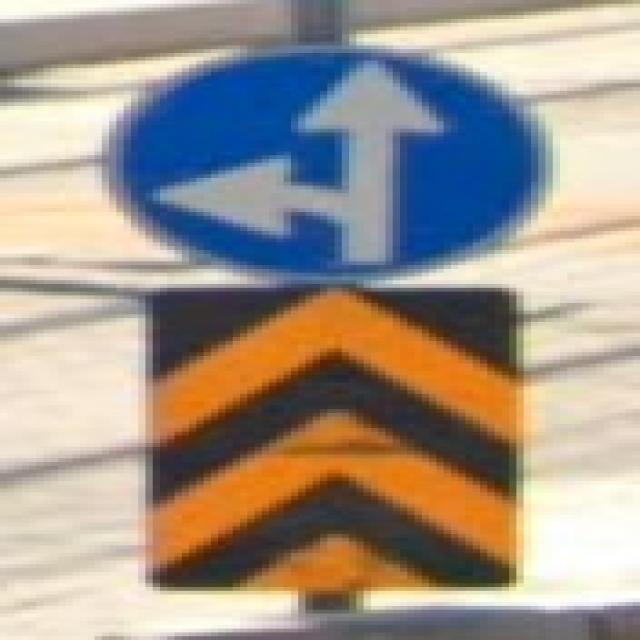Straight or Left: (110, 49, 539, 276)
